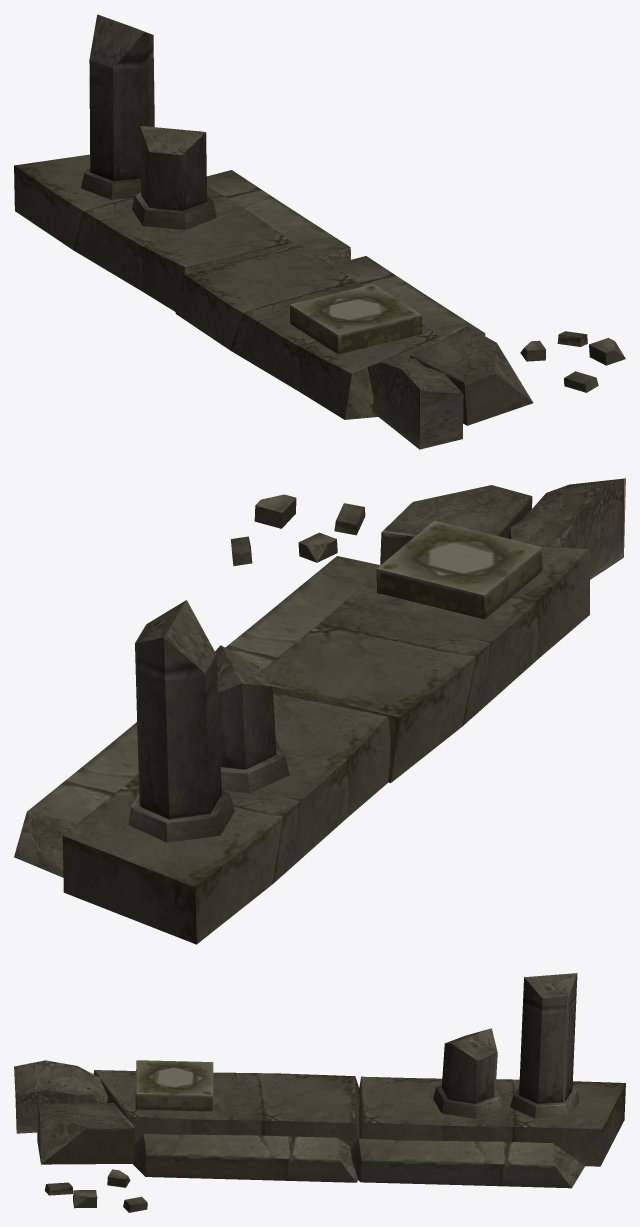
The picture shows the model from 3 angles, top to bottom: view 1: azimuth 30°, elevation 25°; view 2: azimuth 150°, elevation 25°; view 3: azimuth 270°, elevation 25°; orthographic projection. The views are drawn at different scales.
Parts seen in each view (by area): view 1: fx_wj5; view 2: fx_wj5; view 3: fx_wj5.
Part boxes in pixels (x1,y1,x2,y2): fx_wj5: (14,14,625,449); fx_wj5: (14,478,625,944); fx_wj5: (14,973,625,1212).
Size of the model in its own units: 350 by 249 by 809.
Materials: 1 (1 with a texture image).
